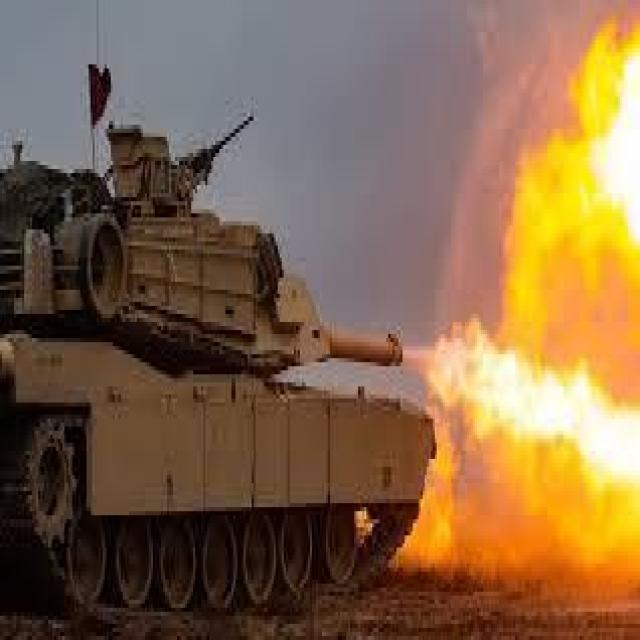Tanks: (6, 114, 433, 602)
